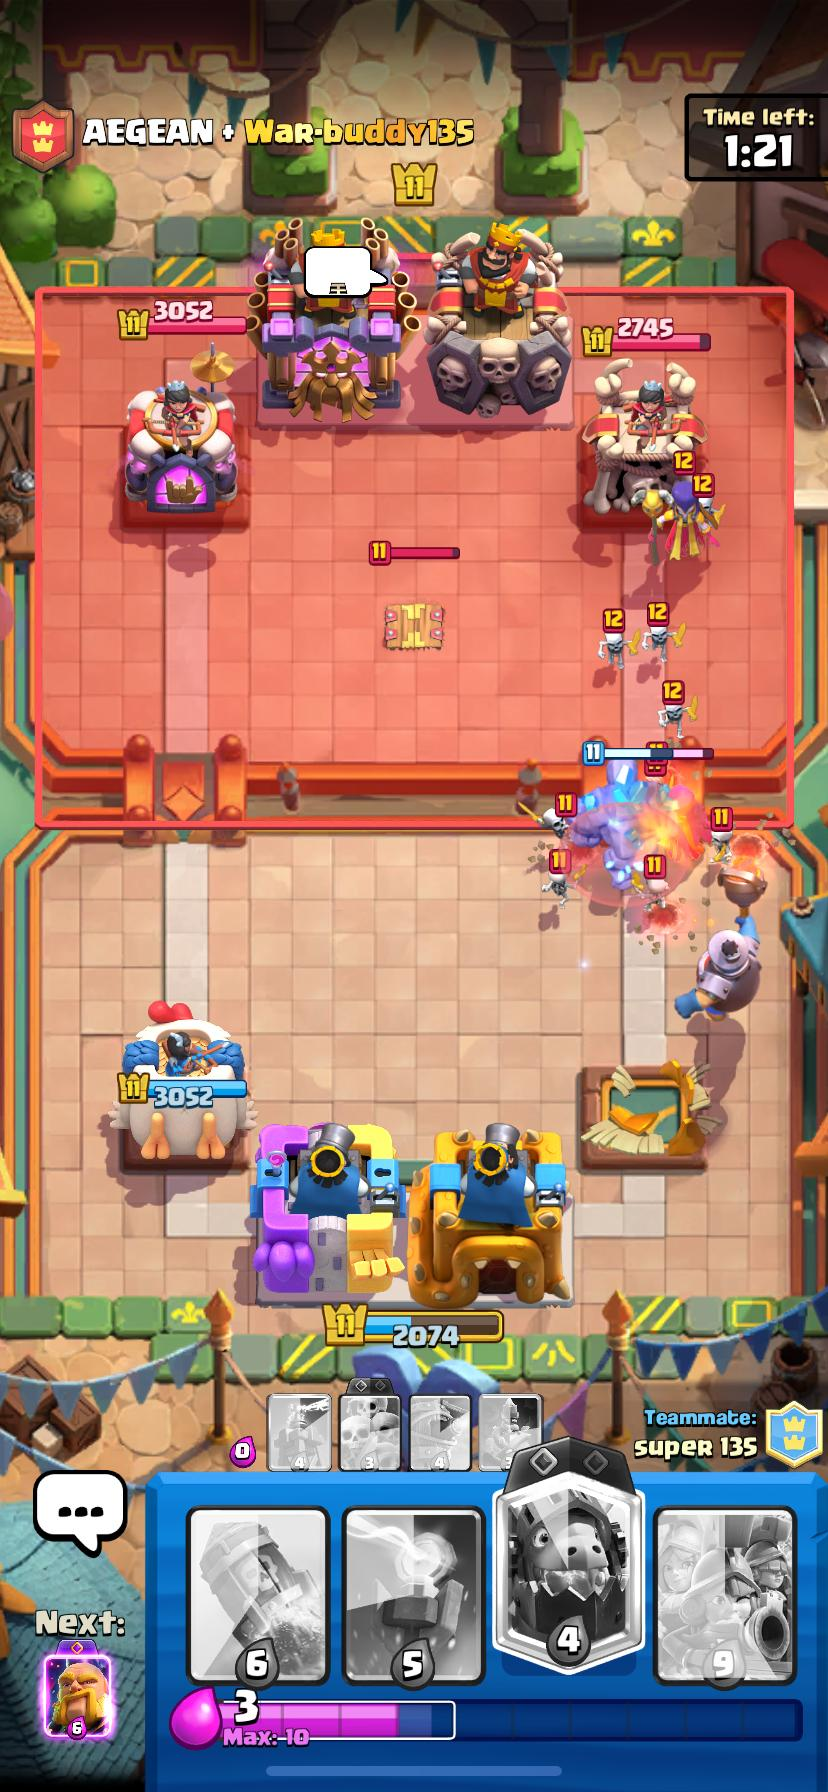EKingTower: (247, 221, 417, 421), (423, 225, 570, 418)
ELarry: (630, 600, 685, 666), (658, 680, 696, 744), (538, 792, 578, 845), (542, 848, 574, 907), (642, 849, 668, 913), (598, 606, 624, 669), (710, 807, 733, 866), (530, 795, 538, 816)
ETesla: (384, 602, 444, 650)
EWitch: (651, 478, 723, 563), (669, 784, 709, 858)
EnemyPrincessTower: (581, 359, 706, 514), (124, 379, 238, 515)
OFurnace: (674, 914, 759, 1019)
OGolem: (570, 753, 680, 891)
OwnKingTower: (407, 1123, 572, 1306), (253, 1123, 401, 1301)
OwnPrincessTower: (111, 1018, 254, 1159)
TowerDown: (580, 1059, 709, 1171)
